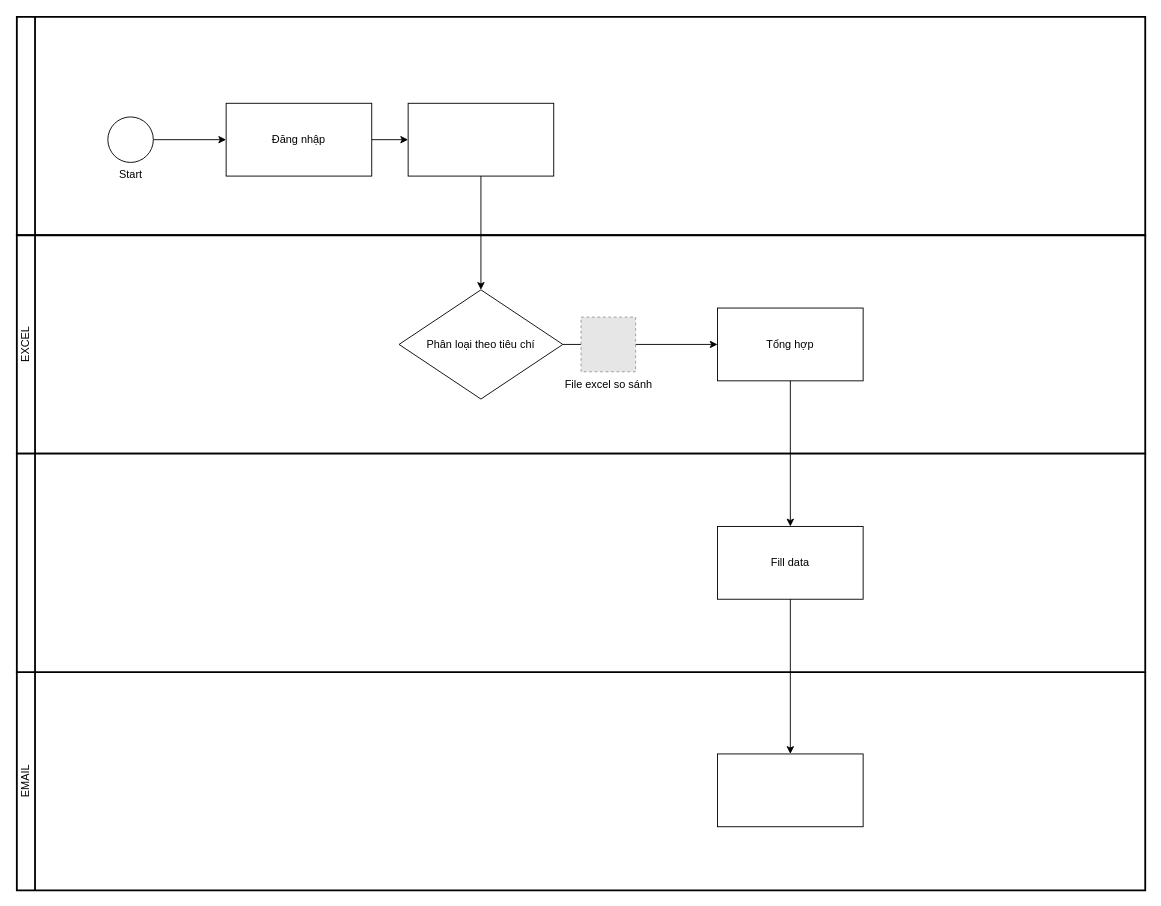
Some shapes in this 1161 by 906 pixel diagram are drawn without their labels. Grey dashed boxes stand in for pictures. The box of each missing label's shape, as (x1, y1, x2, y2) in pixels:
ACME WEBSITE: (15, 15, 1146, 236)
DoubleUI: (15, 452, 1146, 672)
Gửi kết quả về mail: (717, 753, 863, 827)
Lấy thông tin hóa đơn: (407, 102, 554, 176)
